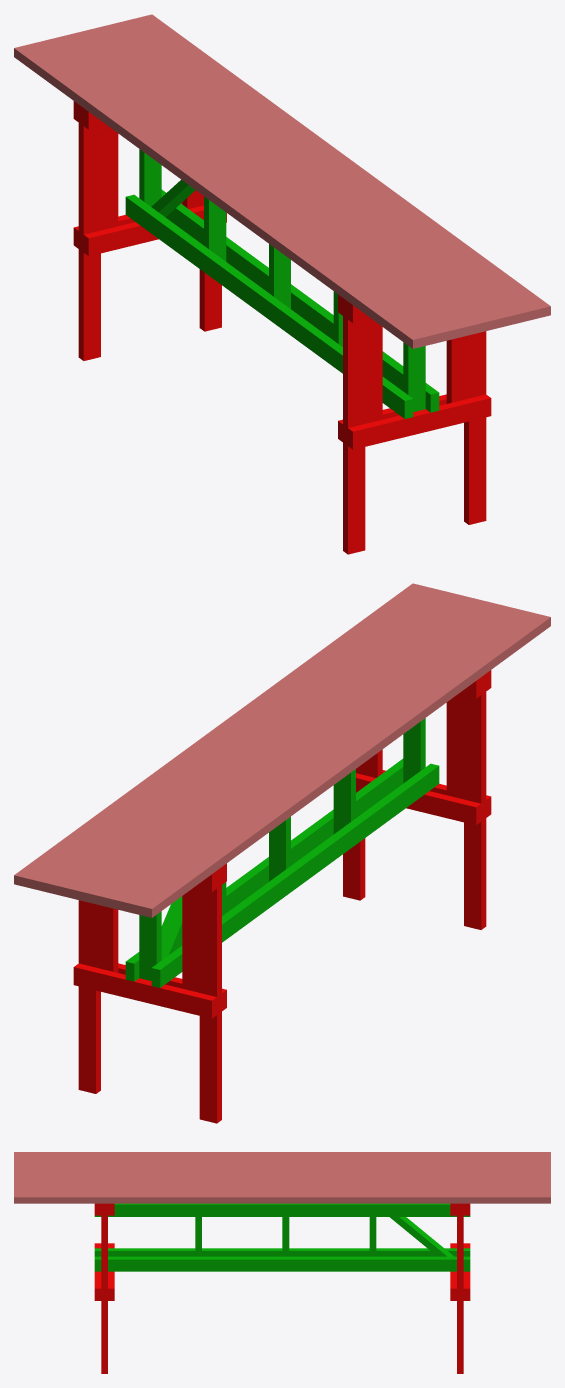
Rendered from result.glb.
3 views of the same model, one above another, from view 1: azimuth 30°, elevation 25°; view 2: azimuth 150°, elevation 25°; view 3: azimuth 270°, elevation 25° (orthographic). The views are drawn at different scales.
Parts seen in each view (by area): view 1: 9b012ed7-13bc-465c-b926-4f0eedbc0b18__Box, fac6a437-622f-47cc-b9e6-622d4a45ee5e__undefined, a2a9f6a3-488c-44d0-b6fd-bcb8a01fa7a9__undefined, 785629e6-05aa-4929-ba0d-3df70dcf2818__undefined, 98fbd558-0d12-489f-ab98-da34a64edb75__undefined, 1f102b67-081d-4e5d-b357-ca8ba0cc8d23__undefined, efae25f2-b8a5-439c-8f32-e9809655824a__undefined, a4dd1098-5a1c-48c8-9a99-6470cc510b37__undefined, f8892c7c-14f8-433b-9a2e-9d7b0262d1b7__strutH, e0f67090-9ab8-406f-83b0-d5a7e2ec9ab1__undefined, 278fb0e0-200a-41b7-a6cf-c67f709f9f54__sideV, 7c1f28ee-f382-450c-becd-ce010d62bf33__strutH (+12 smaller); view 2: 9b012ed7-13bc-465c-b926-4f0eedbc0b18__Box, fac6a437-622f-47cc-b9e6-622d4a45ee5e__undefined, a2a9f6a3-488c-44d0-b6fd-bcb8a01fa7a9__undefined, 785629e6-05aa-4929-ba0d-3df70dcf2818__undefined, 98fbd558-0d12-489f-ab98-da34a64edb75__undefined, 1f102b67-081d-4e5d-b357-ca8ba0cc8d23__undefined, efae25f2-b8a5-439c-8f32-e9809655824a__undefined, a4dd1098-5a1c-48c8-9a99-6470cc510b37__undefined, f8892c7c-14f8-433b-9a2e-9d7b0262d1b7__strutH, 278fb0e0-200a-41b7-a6cf-c67f709f9f54__sideV, e0f67090-9ab8-406f-83b0-d5a7e2ec9ab1__undefined, 7c1f28ee-f382-450c-becd-ce010d62bf33__strutH (+12 smaller); view 3: 1f102b67-081d-4e5d-b357-ca8ba0cc8d23__undefined, 7c1f28ee-f382-450c-becd-ce010d62bf33__strutH, c81a9ef2-4d95-4098-a094-402e397f76e3__strutH, fac6a437-622f-47cc-b9e6-622d4a45ee5e__undefined, efae25f2-b8a5-439c-8f32-e9809655824a__undefined, 9b012ed7-13bc-465c-b926-4f0eedbc0b18__Box, a2a9f6a3-488c-44d0-b6fd-bcb8a01fa7a9__undefined, 785629e6-05aa-4929-ba0d-3df70dcf2818__undefined, 98fbd558-0d12-489f-ab98-da34a64edb75__undefined, a4dd1098-5a1c-48c8-9a99-6470cc510b37__undefined, f8892c7c-14f8-433b-9a2e-9d7b0262d1b7__strutH, a4549c7b-3b3b-41f1-985a-867bf4e69b0d__sideV (+6 smaller).
Boxes of the visible parts, x1,y1,x2,y2 form: 9b012ed7-13bc-465c-b926-4f0eedbc0b18__Box: (14,44,429,348); fac6a437-622f-47cc-b9e6-622d4a45ee5e__undefined: (31,39,447,344); a2a9f6a3-488c-44d0-b6fd-bcb8a01fa7a9__undefined: (49,35,464,340); 785629e6-05aa-4929-ba0d-3df70dcf2818__undefined: (66,31,481,336); 98fbd558-0d12-489f-ab98-da34a64edb75__undefined: (101,23,516,327); 1f102b67-081d-4e5d-b357-ca8ba0cc8d23__undefined: (135,14,550,319); efae25f2-b8a5-439c-8f32-e9809655824a__undefined: (83,27,499,331); a4dd1098-5a1c-48c8-9a99-6470cc510b37__undefined: (118,18,533,323); f8892c7c-14f8-433b-9a2e-9d7b0262d1b7__strutH: (125,194,413,418); e0f67090-9ab8-406f-83b0-d5a7e2ec9ab1__undefined: (78,105,100,360); 278fb0e0-200a-41b7-a6cf-c67f709f9f54__sideV: (343,298,365,554); 7c1f28ee-f382-450c-becd-ce010d62bf33__strutH: (161,189,439,412); 9b012ed7-13bc-465c-b926-4f0eedbc0b18__Box: (135,613,550,917); fac6a437-622f-47cc-b9e6-622d4a45ee5e__undefined: (117,608,533,913); a2a9f6a3-488c-44d0-b6fd-bcb8a01fa7a9__undefined: (100,604,515,909); 785629e6-05aa-4929-ba0d-3df70dcf2818__undefined: (83,600,498,905); 98fbd558-0d12-489f-ab98-da34a64edb75__undefined: (48,592,463,896); 1f102b67-081d-4e5d-b357-ca8ba0cc8d23__undefined: (14,583,429,888); efae25f2-b8a5-439c-8f32-e9809655824a__undefined: (65,596,481,900); a4dd1098-5a1c-48c8-9a99-6470cc510b37__undefined: (31,587,446,892); f8892c7c-14f8-433b-9a2e-9d7b0262d1b7__strutH: (151,763,439,987); 278fb0e0-200a-41b7-a6cf-c67f709f9f54__sideV: (464,674,486,929); e0f67090-9ab8-406f-83b0-d5a7e2ec9ab1__undefined: (199,867,221,1123); 7c1f28ee-f382-450c-becd-ce010d62bf33__strutH: (125,758,403,981); 1f102b67-081d-4e5d-b357-ca8ba0cc8d23__undefined: (14,1191,550,1203); 7c1f28ee-f382-450c-becd-ce010d62bf33__strutH: (94,1256,470,1271); c81a9ef2-4d95-4098-a094-402e397f76e3__strutH: (94,1203,470,1216); fac6a437-622f-47cc-b9e6-622d4a45ee5e__undefined: (14,1157,550,1163); efae25f2-b8a5-439c-8f32-e9809655824a__undefined: (14,1174,550,1180); 9b012ed7-13bc-465c-b926-4f0eedbc0b18__Box: (14,1152,550,1157); a2a9f6a3-488c-44d0-b6fd-bcb8a01fa7a9__undefined: (14,1163,550,1168); 785629e6-05aa-4929-ba0d-3df70dcf2818__undefined: (14,1169,550,1174); 98fbd558-0d12-489f-ab98-da34a64edb75__undefined: (14,1180,550,1185); a4dd1098-5a1c-48c8-9a99-6470cc510b37__undefined: (14,1186,550,1191); f8892c7c-14f8-433b-9a2e-9d7b0262d1b7__strutH: (94,1248,470,1256); a4549c7b-3b3b-41f1-985a-867bf4e69b0d__sideV: (101,1203,107,1373).
Size of the model in its own units: 400 by 725 by 2000.
